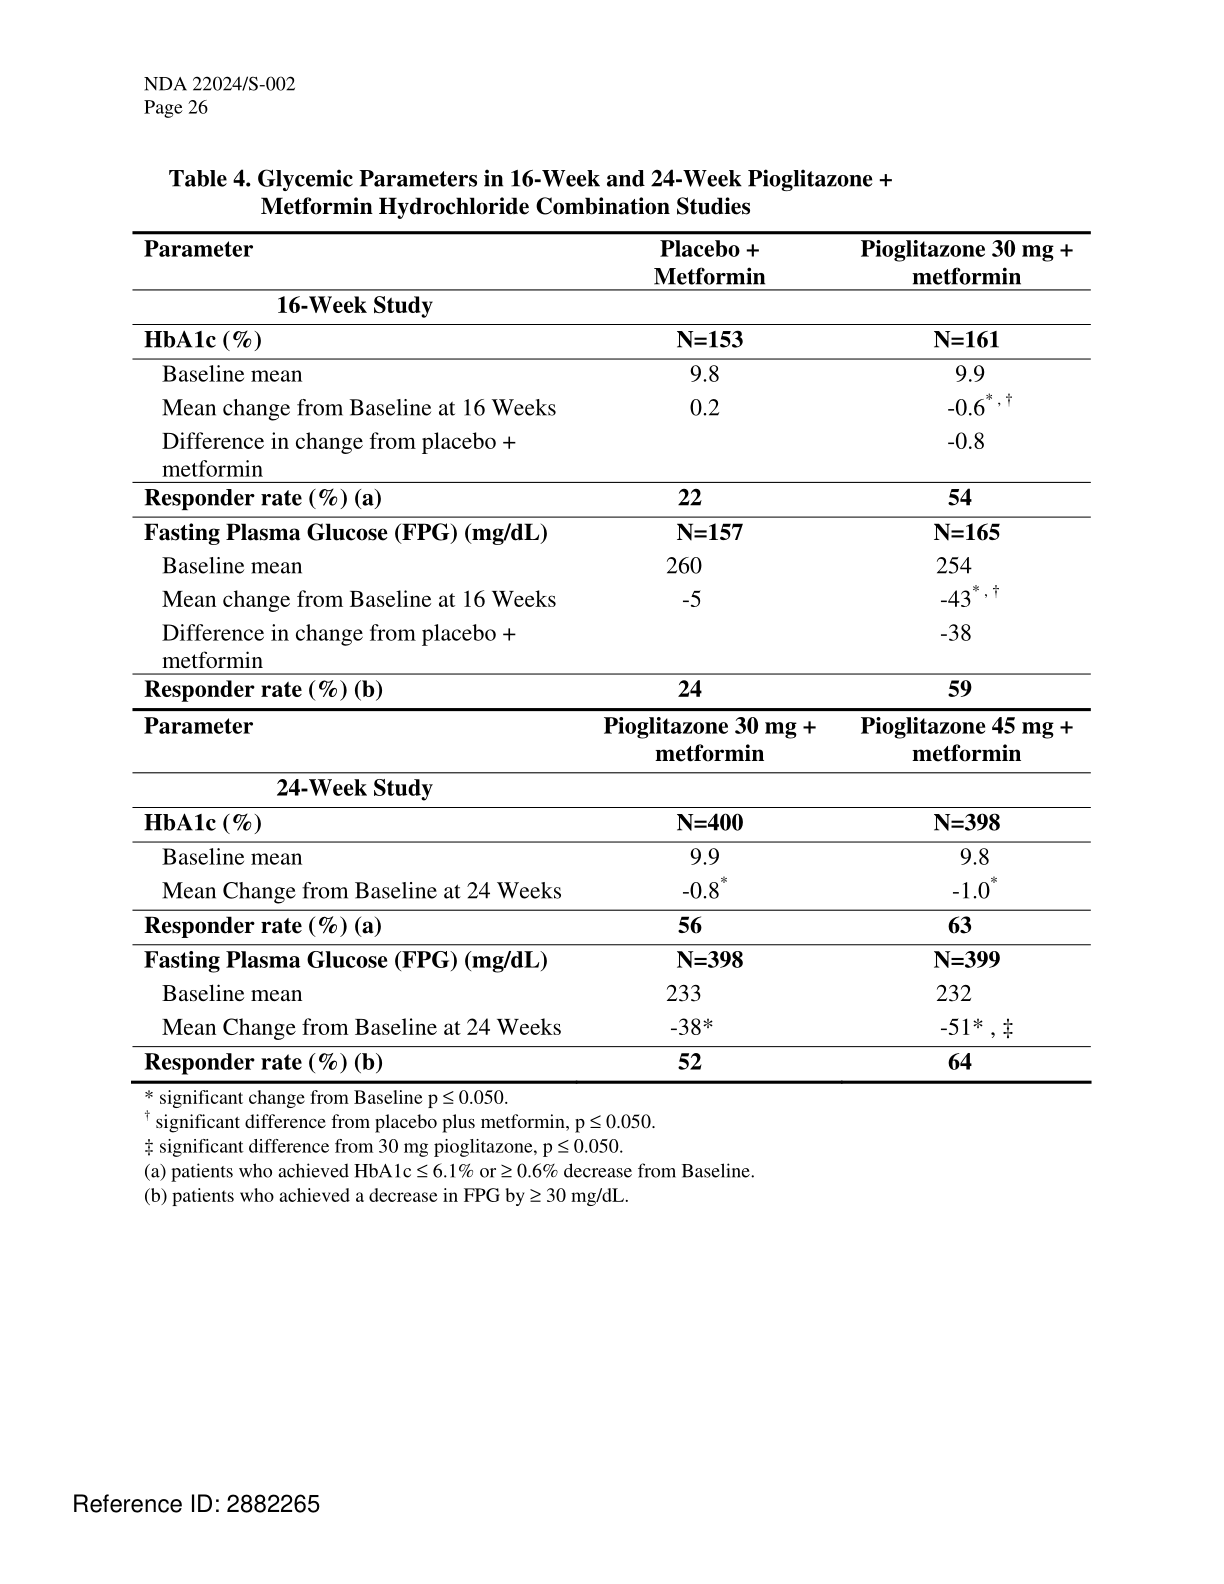partial_lined: (130, 231, 1093, 1084)
